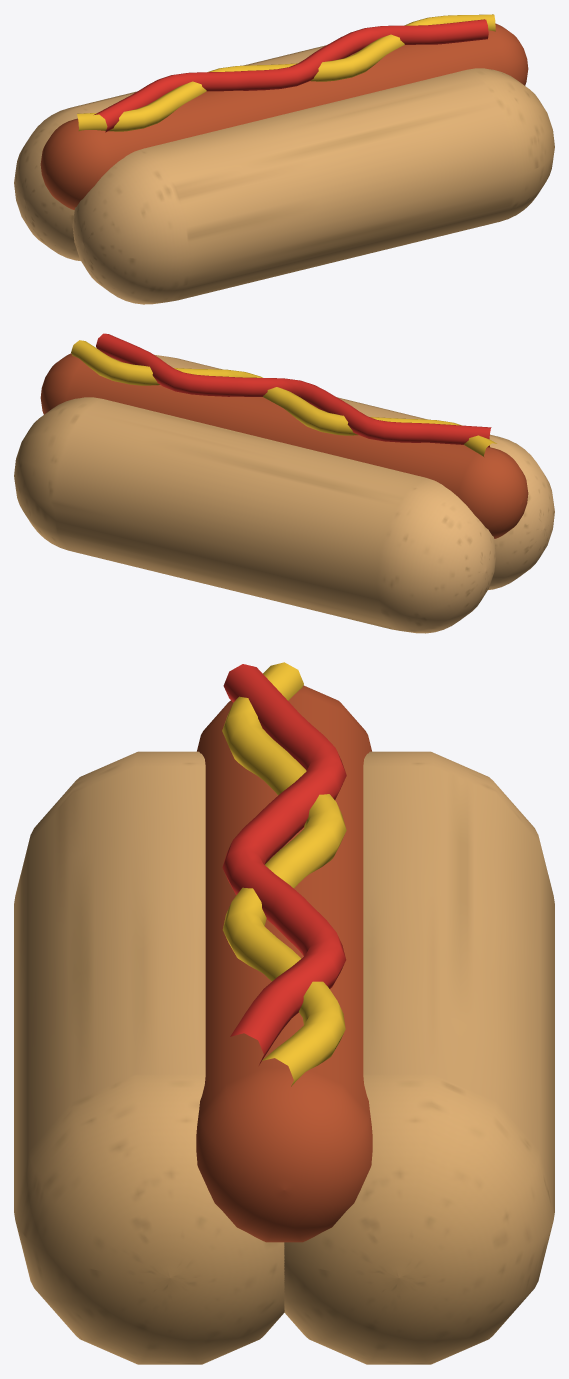
File: sosisli.glb
3 views of the same model, one above another, from view 1: azimuth 30°, elevation 25°; view 2: azimuth 150°, elevation 25°; view 3: azimuth 270°, elevation 25° (orthographic). The views are drawn at different scales.
Parts seen in each view (by area): view 1: sosisli; view 2: sosisli; view 3: sosisli.
Part boxes in pixels (<box>): sosisli: <box>14,14,554,304</box>; sosisli: <box>14,333,554,633</box>; sosisli: <box>14,662,554,1364</box>.
Bounding box in the file's own units: 0.206 × 0.0732 × 0.104.
4 materials, 1 textured.
